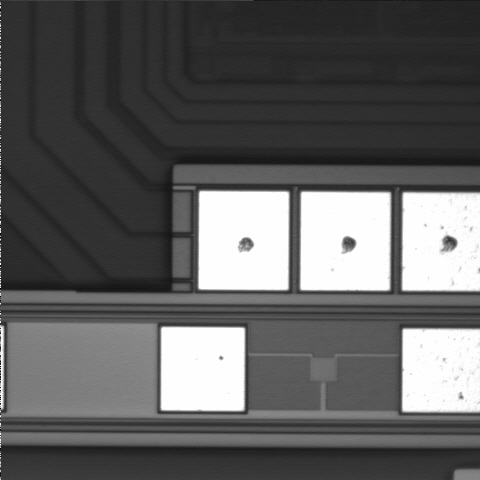pad: (199, 191, 289, 290), (300, 192, 390, 290), (161, 327, 245, 411)
